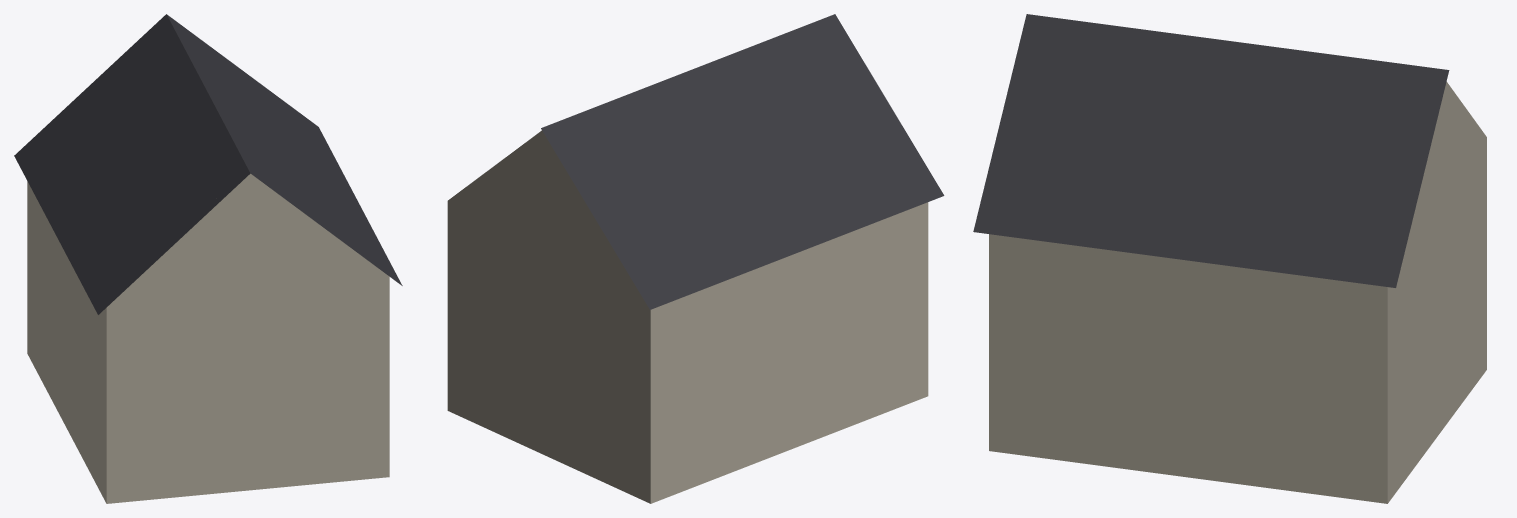
3 renders of one model, left to right at view 1: azimuth 30°, elevation 25°; view 2: azimuth 150°, elevation 25°; view 3: azimuth 270°, elevation 25°, orthographic. The views are drawn at different scales.
Parts seen in each view (by area): view 1: buildings; view 2: buildings; view 3: buildings.
Boxes of the visible parts, box(x1,y1,x2,y2) form: buildings: box(14, 14, 402, 503); buildings: box(447, 14, 944, 503); buildings: box(973, 14, 1486, 503).
Bounding box in the file's own units: 11.26 × 9.65 × 12.57.
